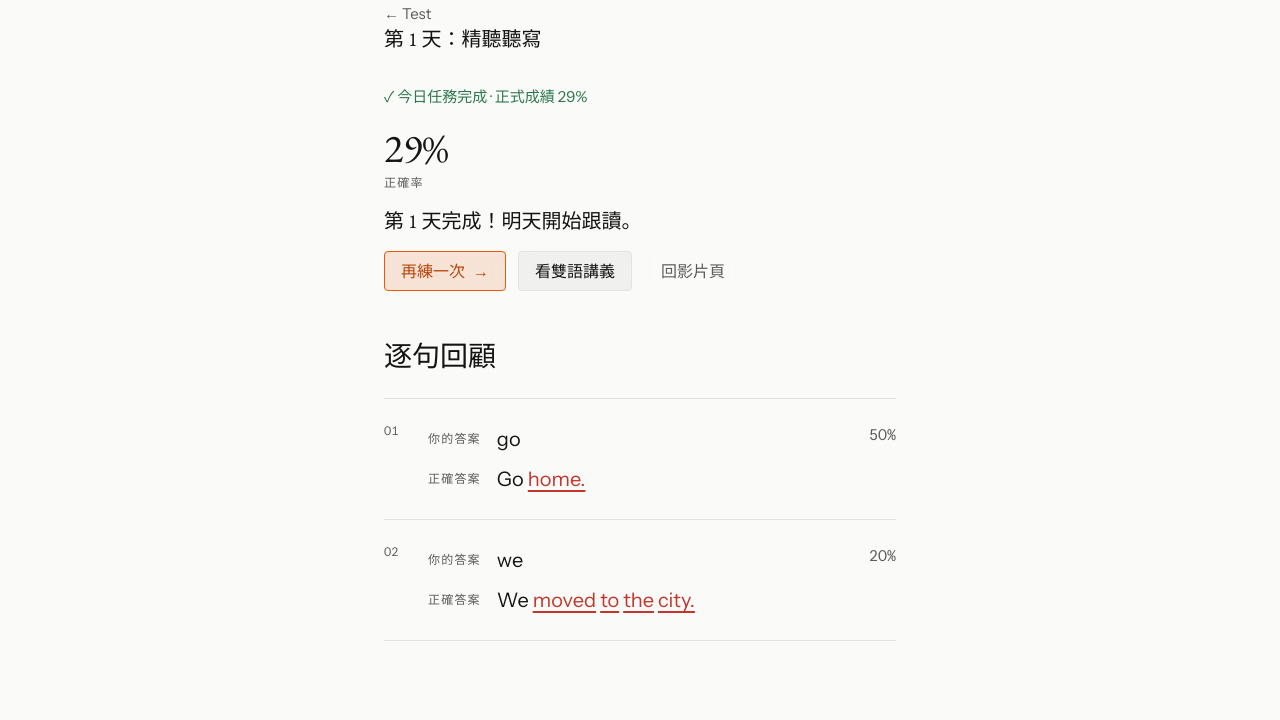
Scenario: retry › never changes the saved official score
The width and height of the screenshot is (1280, 720).
Click the button "再練一次 →" at [445, 271], box [384,251,506,291]
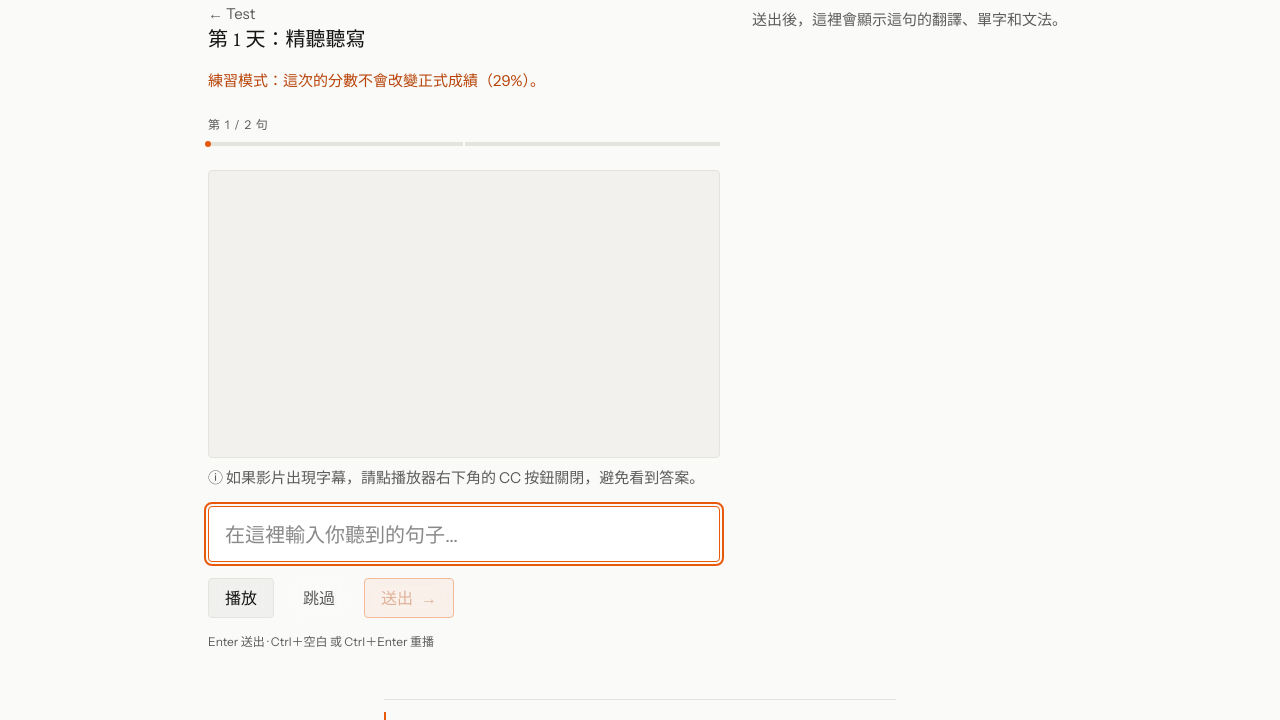
Now the text "練習模式：這次的分數不會改變正式成績（29%）。" is shown, box [208,71,545,90]
Now the text "第 1 / 2 句" is shown, box [208,117,269,134]
Type "go home" into the text box labelled "你聽到的句子" at [464, 534], box [208,506,720,562]
Then press Enter
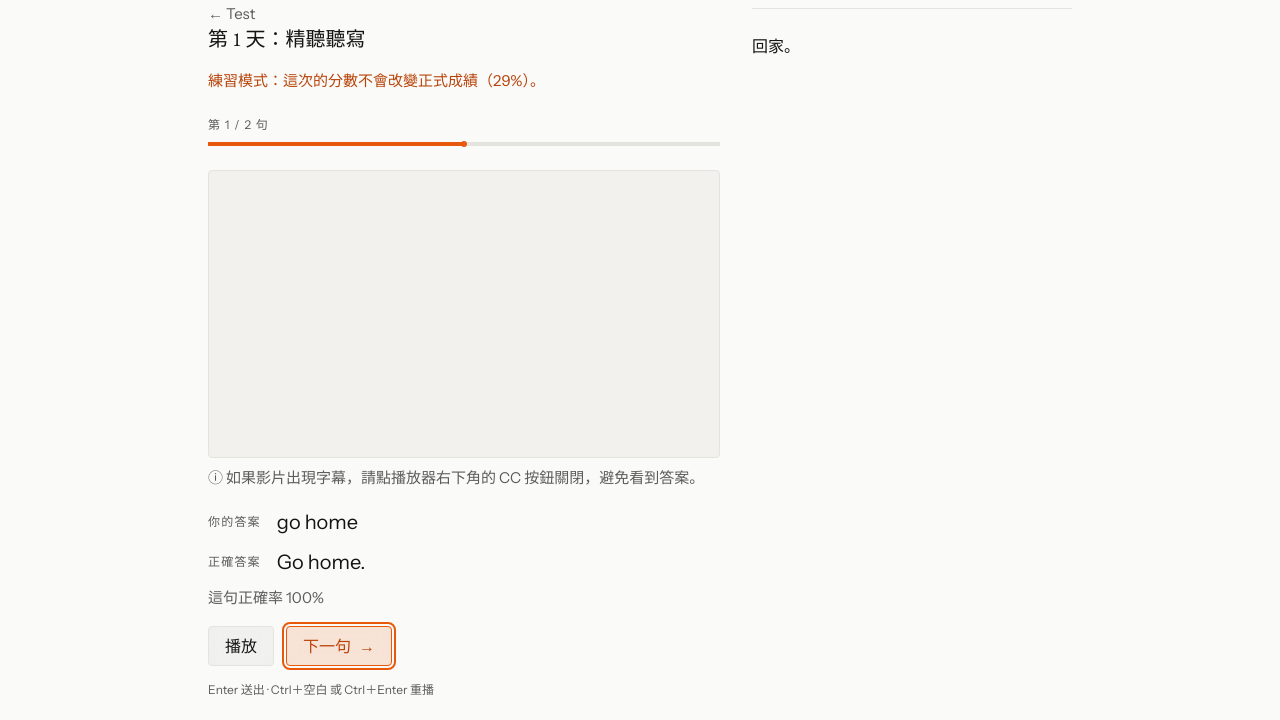
Press Enter
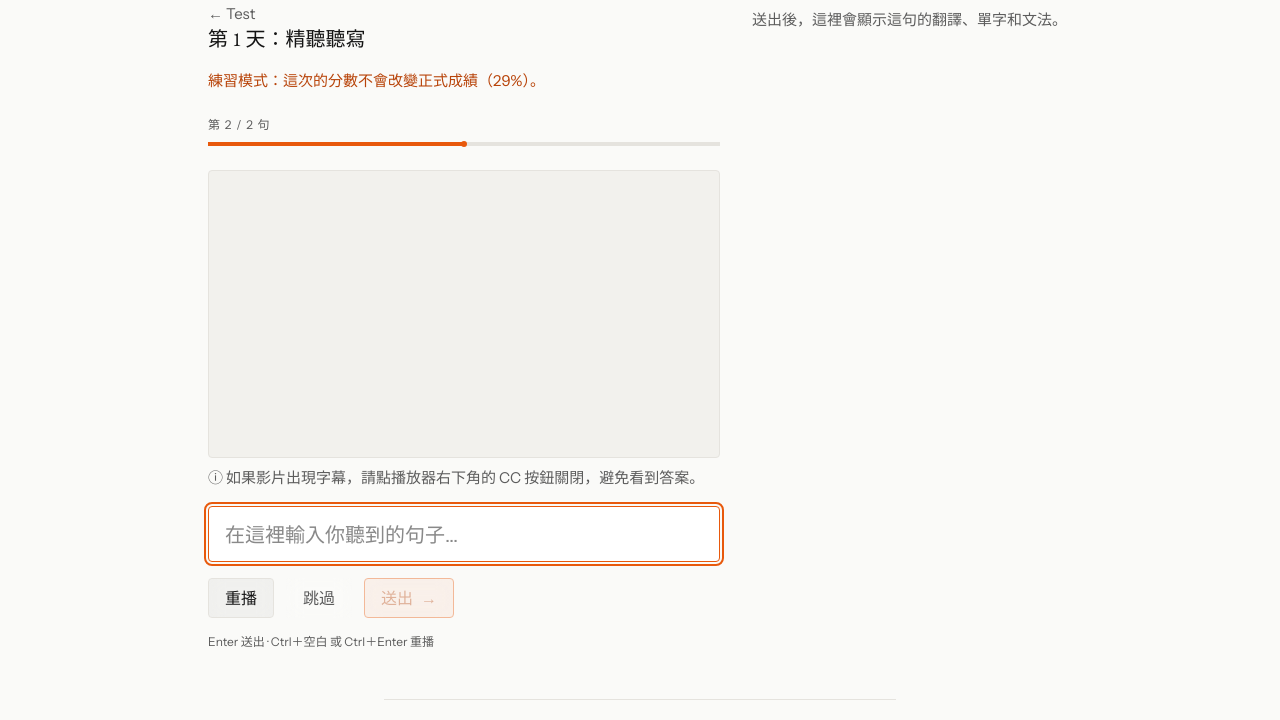
Type "we moved to the city" into the text box labelled "你聽到的句子" at [464, 534], box [208,506,720,562]
Then press Enter
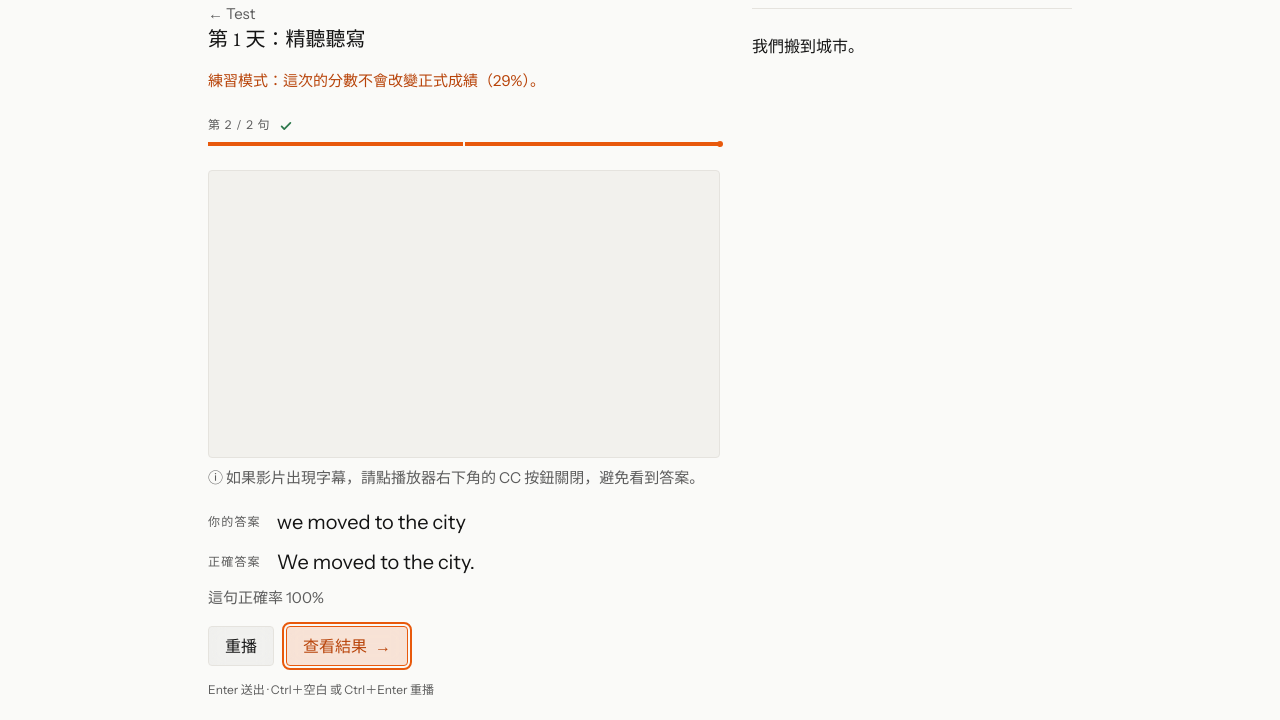
Press Enter
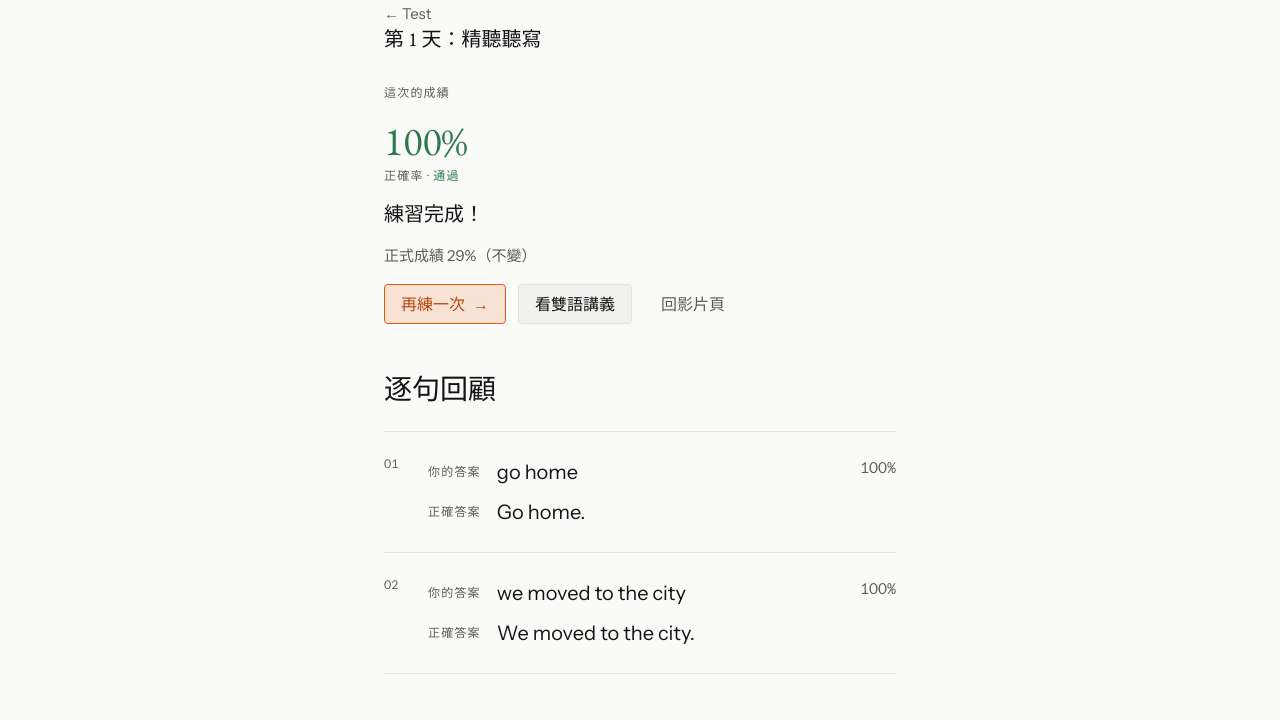
Now the text "這次的成績" is shown, box [384,85,450,100]
Now the text "正式成績 29%（不變）" is shown, box [384,246,536,265]
